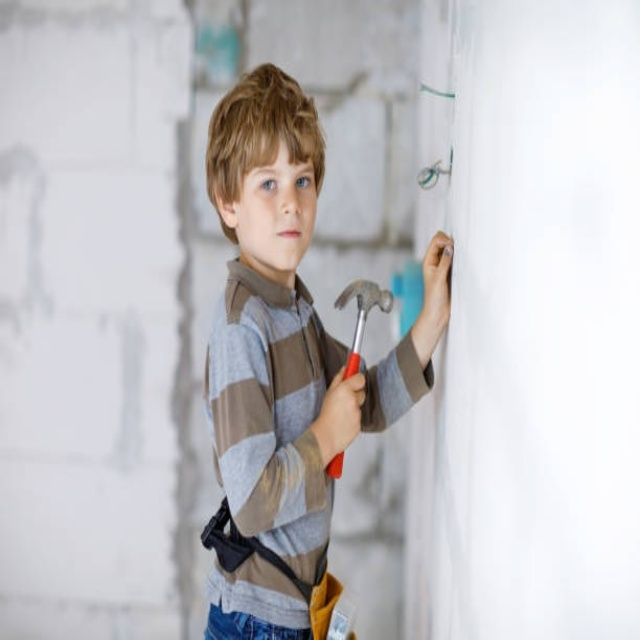Sin_gafas: (250, 157, 318, 198)
Sin_guantes: (315, 363, 367, 461), (419, 229, 459, 336)
Sin_mascara: (271, 220, 305, 259)
